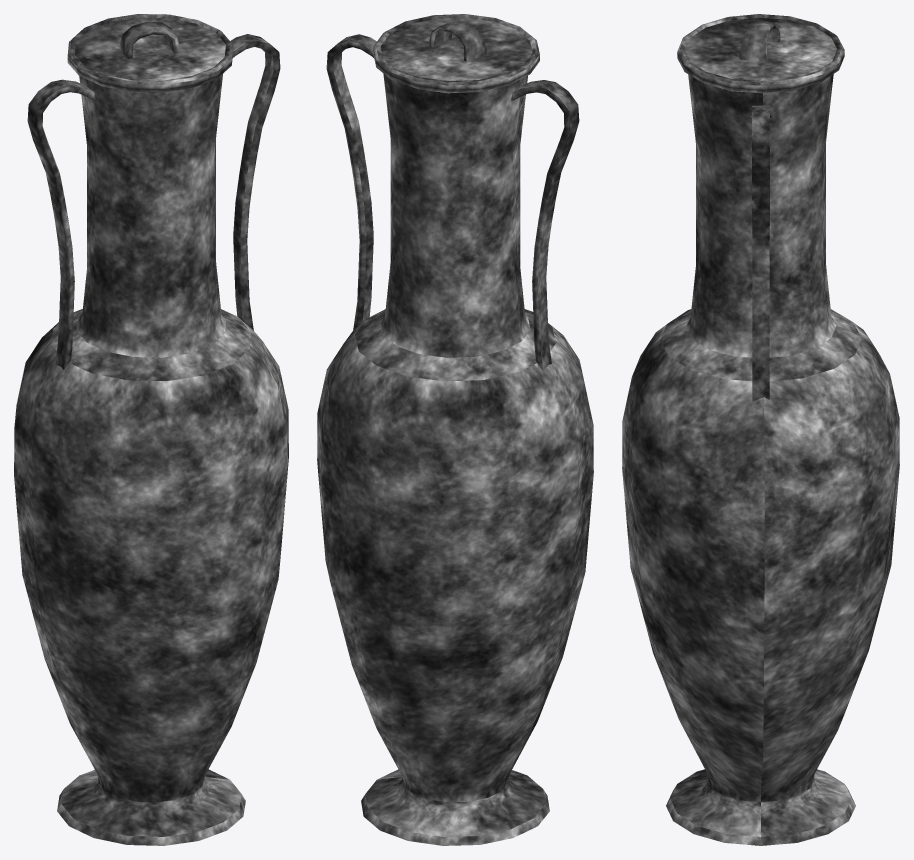
Rendered from SM_vase_02.fbx.
3 views of the same model, side by side, from view 1: azimuth 30°, elevation 25°; view 2: azimuth 150°, elevation 25°; view 3: azimuth 270°, elevation 25° (orthographic).
Visible parts, largest first — view 1: SM_vase_02_LOD0; view 2: SM_vase_02_LOD0; view 3: SM_vase_02_LOD0.
Boxes of the visible parts, bbox=[...] form: SM_vase_02_LOD0: bbox=[14, 14, 288, 845]; SM_vase_02_LOD0: bbox=[317, 14, 593, 845]; SM_vase_02_LOD0: bbox=[622, 14, 899, 845].
Size of the model in its own units: 79.46 by 78.2 by 242.
